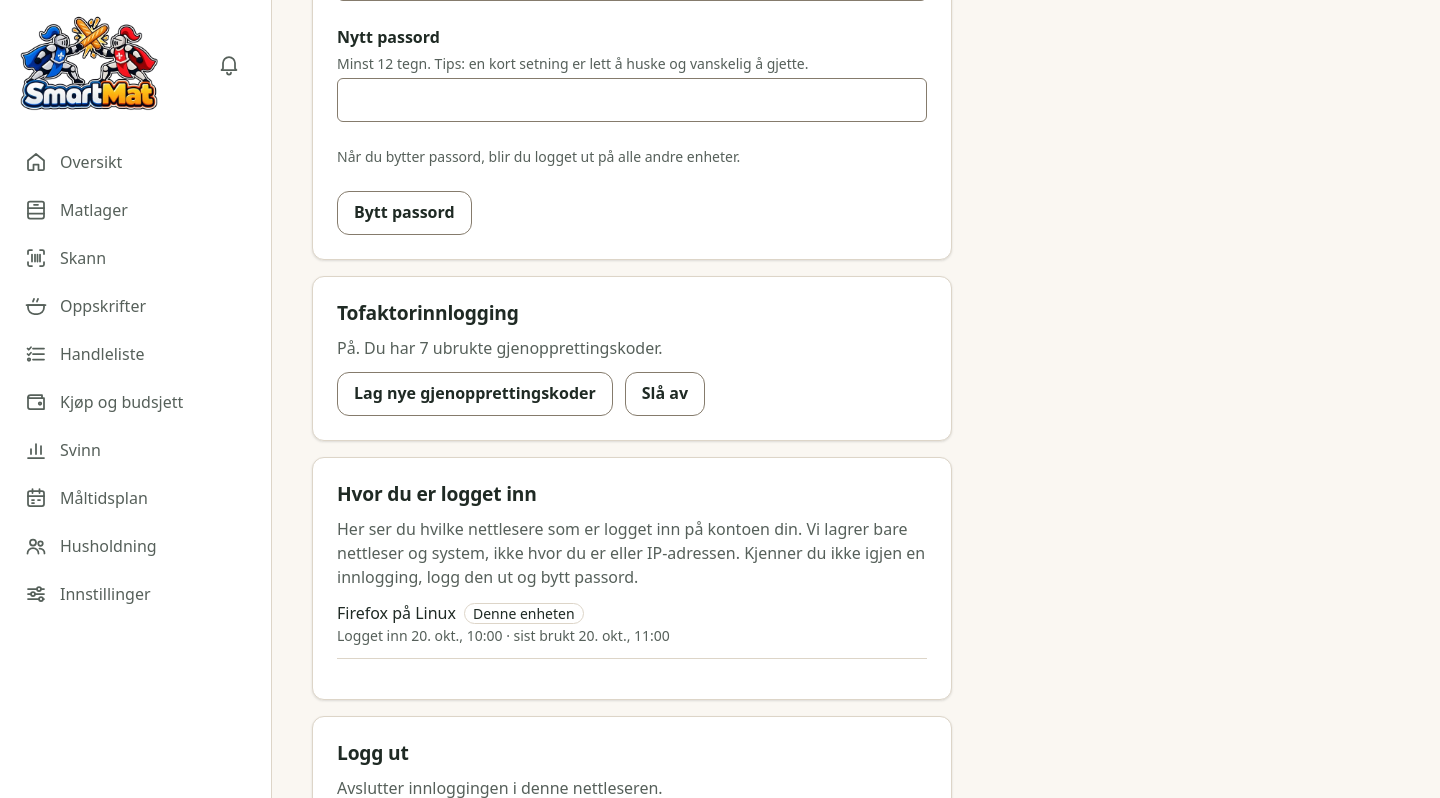
it: FR-AUTH-010 the profile card › on: shows how many recovery codes are left; turning off needs password and code
(page scrolled)
Expected: the text "På. Du har 7 ubrukte gjenopprettingskoder." is shown, [337,337,663,359]
Click the button "Slå av" at coordinates (665, 394), box [625,372,705,416]
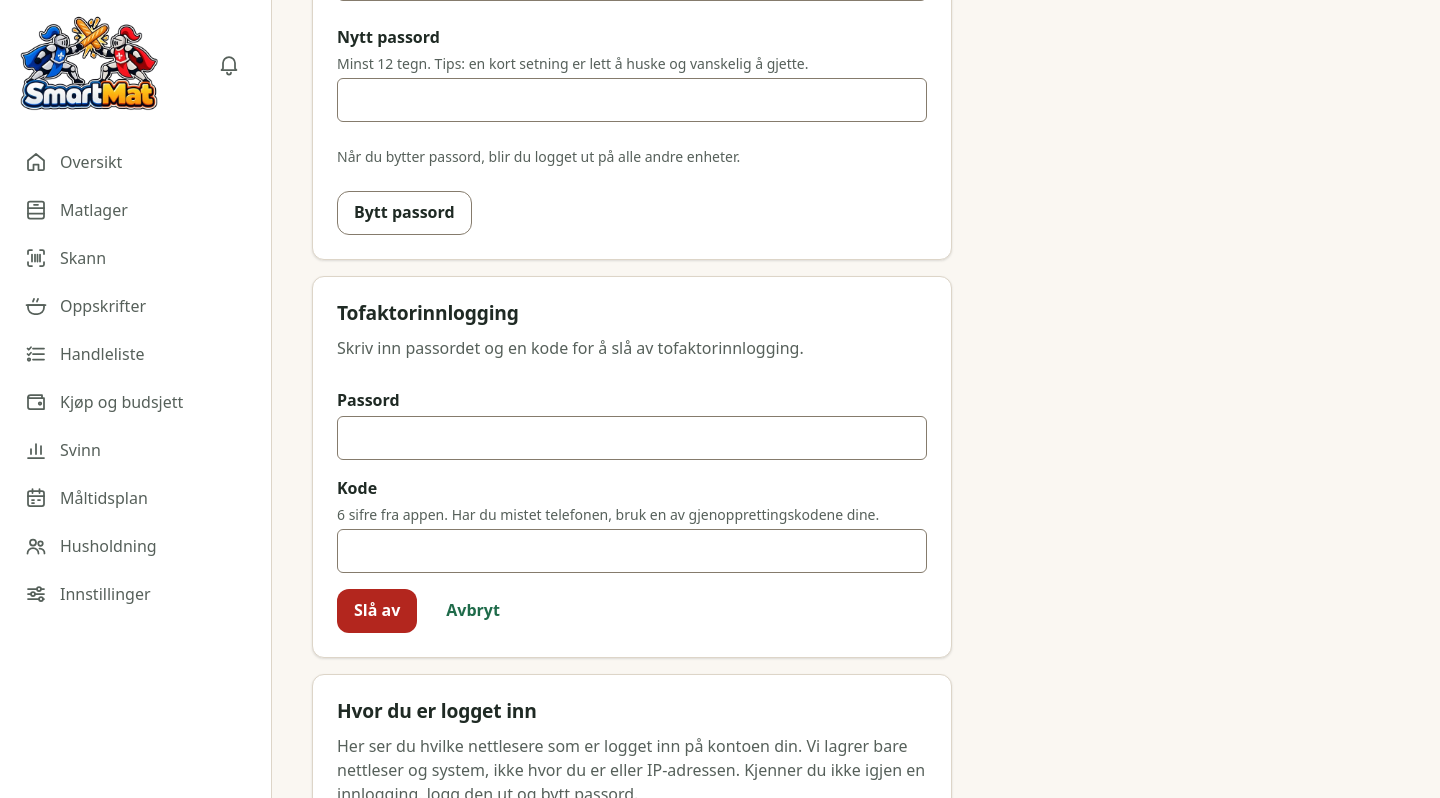
Type "riktig hest batteri" into the password field labelled "Passord" at coordinates (632, 438), box [337,416,927,460]
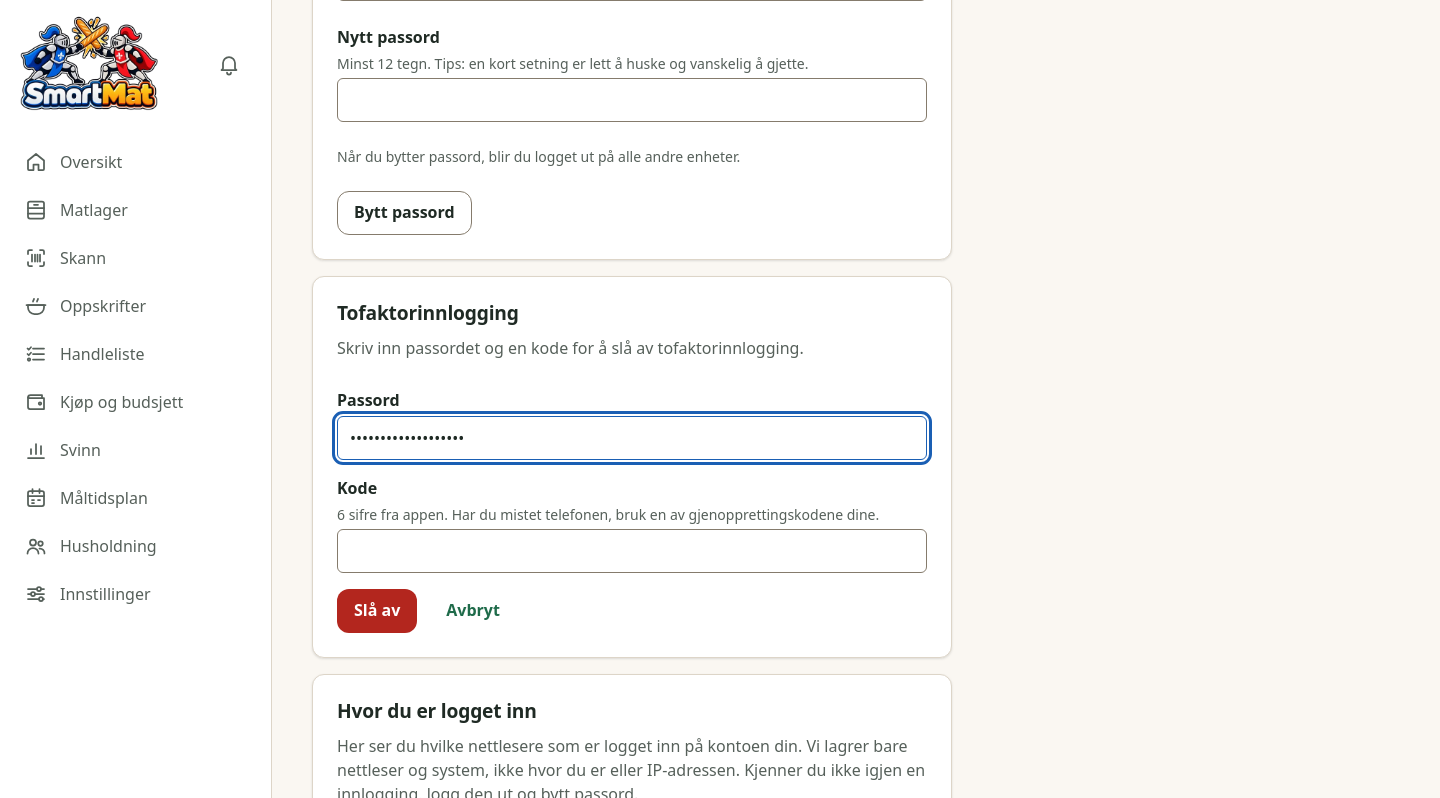
Type "654321" into the field labelled "Kode" at coordinates (632, 551), box [337,529,927,573]
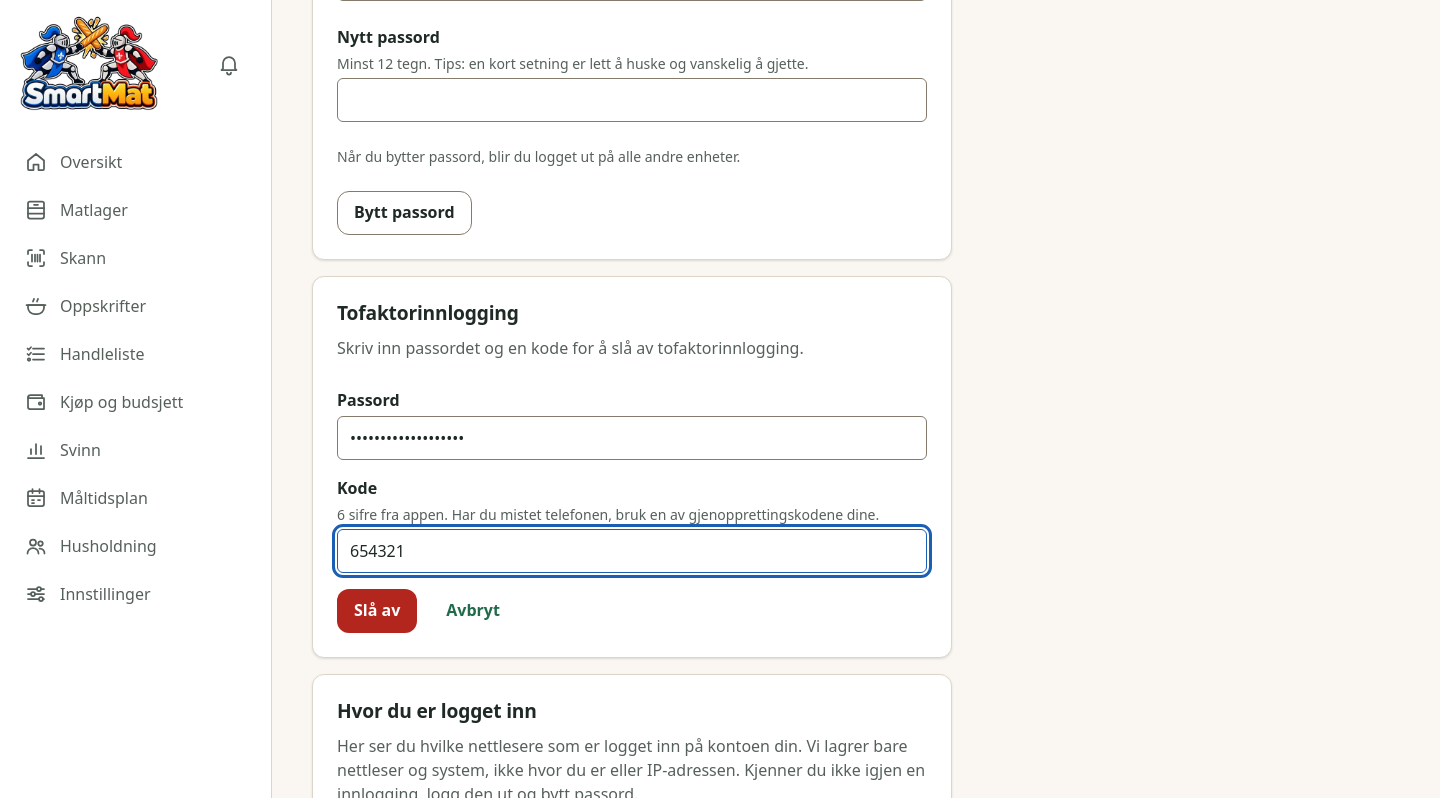
Click the button "Slå av" at coordinates (377, 611), box [337,589,417,633]
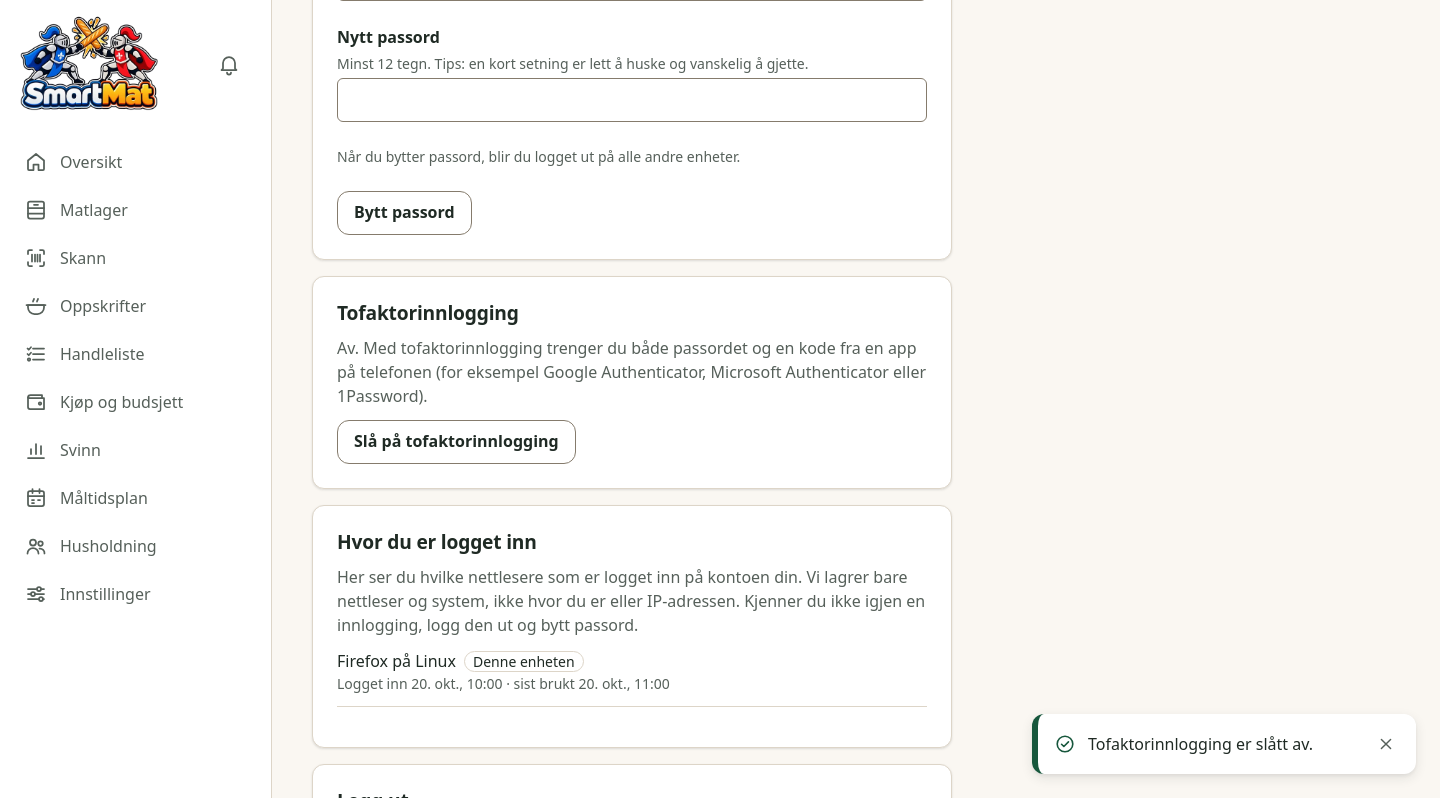
Expected: the text "Tofaktorinnlogging er slått av." is shown, [1088,732,1352,756]
